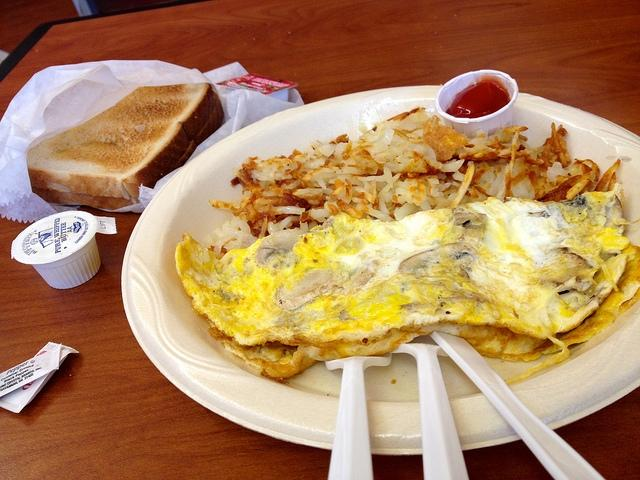potato: (209, 107, 622, 255), (352, 186, 375, 204), (452, 181, 474, 191), (546, 181, 552, 191)
